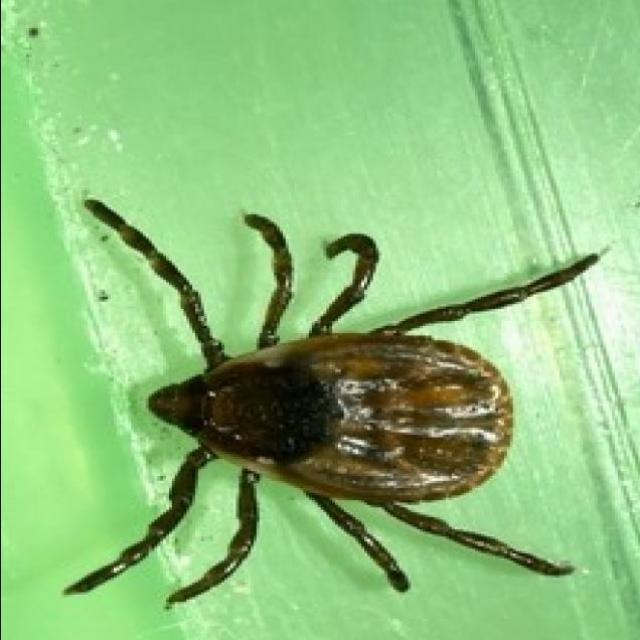Rhipicephalus Sanguineus-F: (60, 200, 599, 609)
